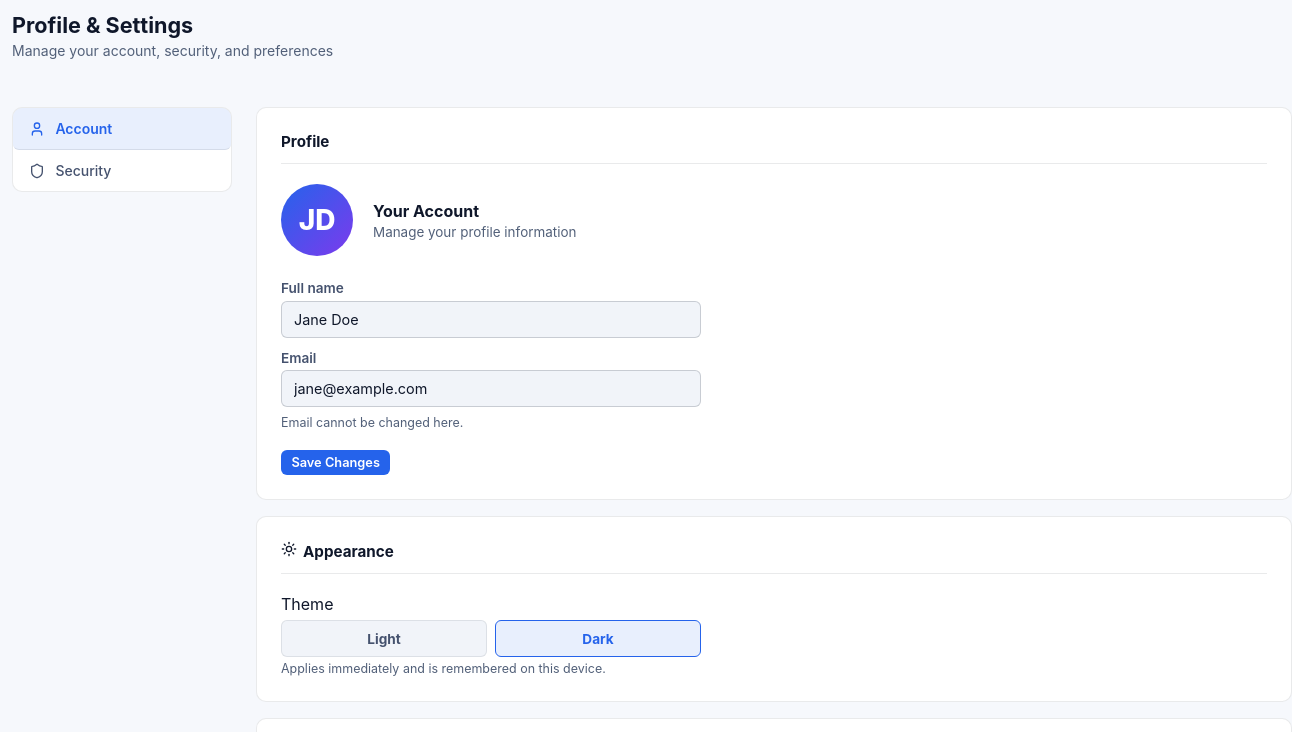
Test: ProfilePage › Account tab › saves a profile change successfully
Replace the text in the field labelled "Full name" with "Jane Updated" at (491, 319), box [281, 301, 701, 338]
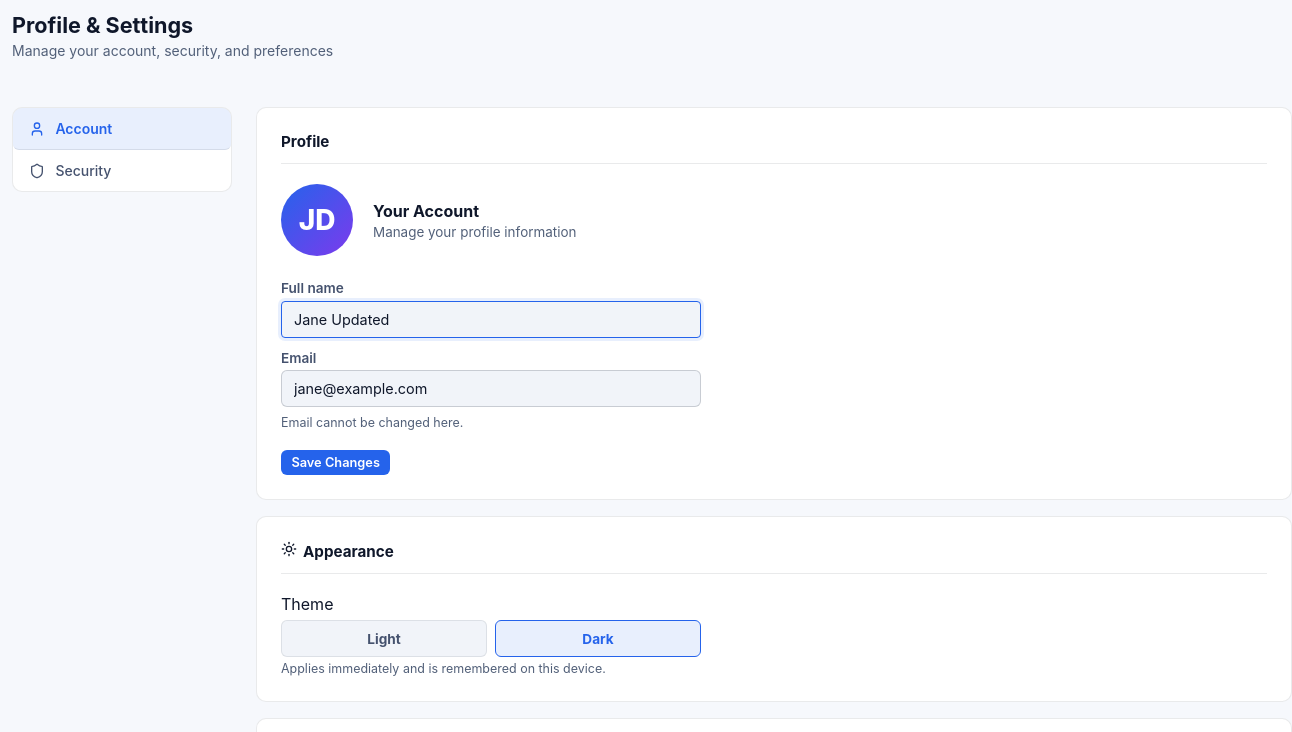
Click the button "Save Changes" at (336, 462), box [281, 450, 390, 474]
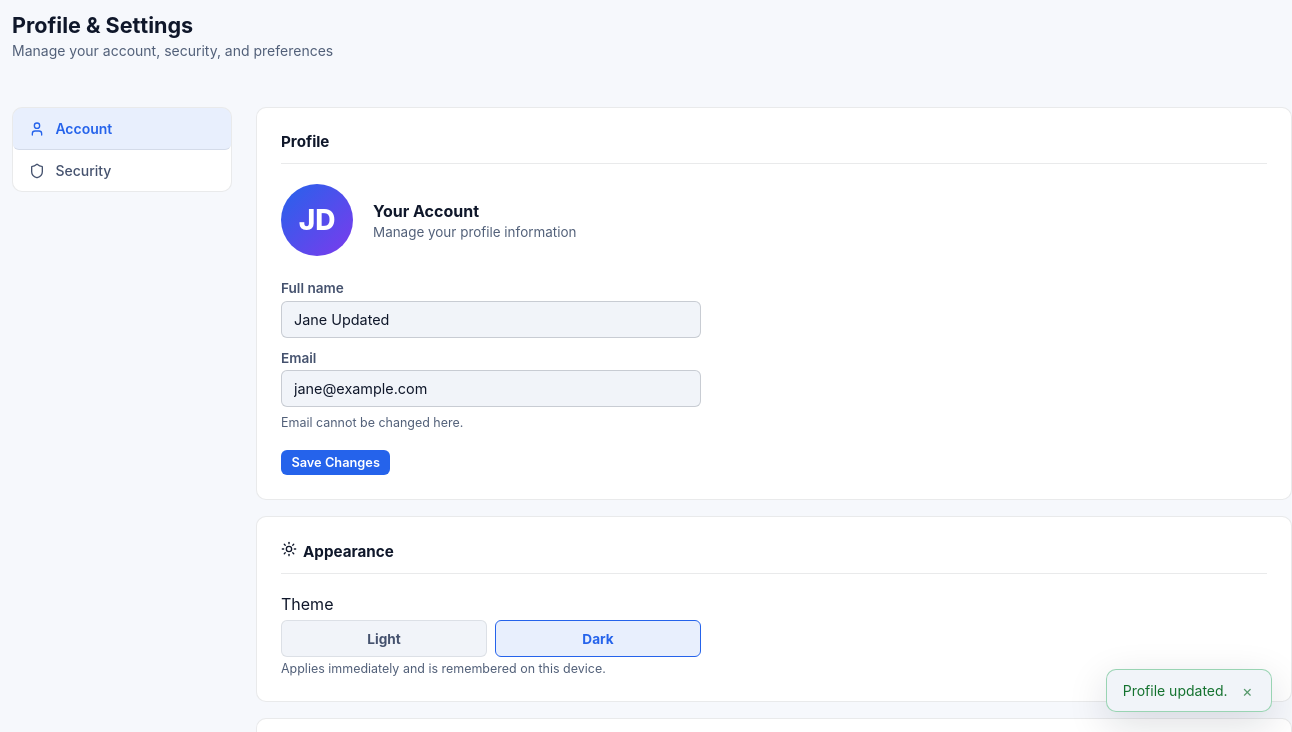
Now the text "Profile updated." is shown, box [1123, 682, 1228, 699]
